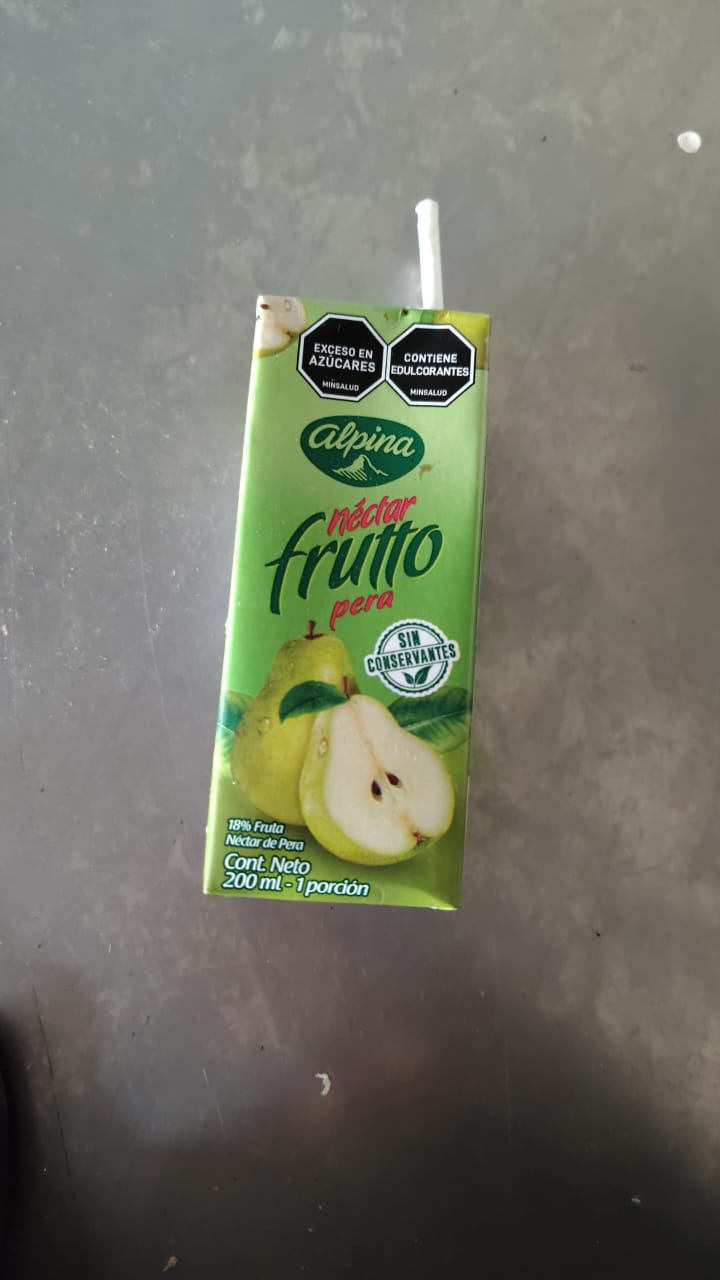Carton: (202, 289, 487, 912)
